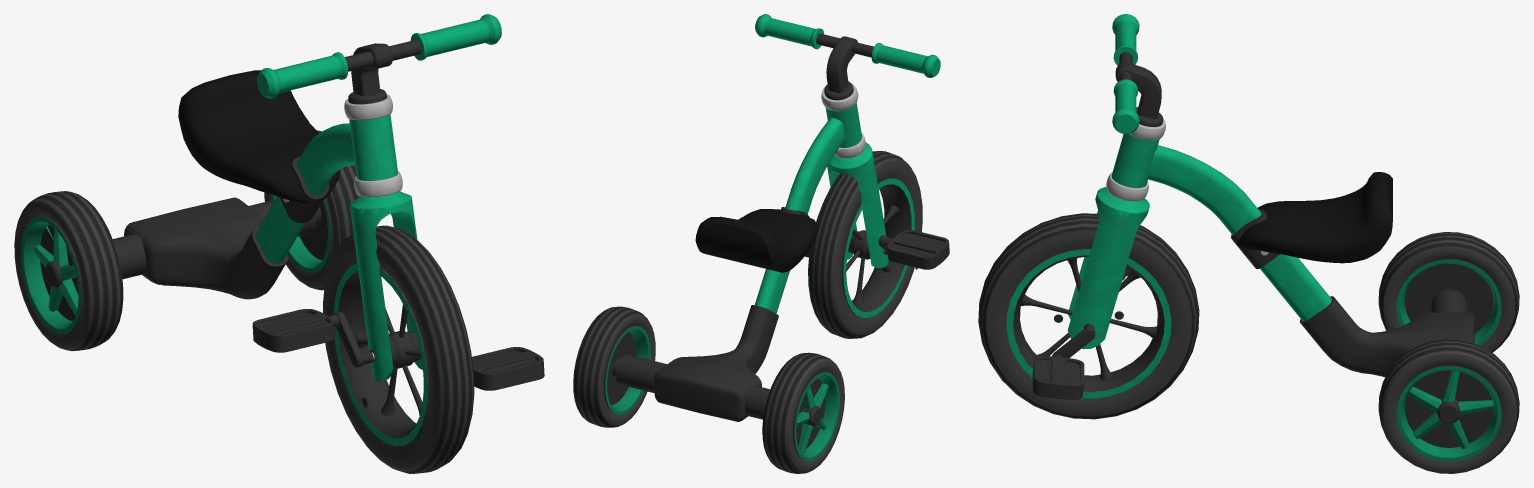
Rendered from xe dap bao.fbx.
3 renders of one model, left to right at view 1: azimuth 30°, elevation 25°; view 2: azimuth 150°, elevation 25°; view 3: azimuth 270°, elevation 25°, orthographic. The views are drawn at different scales.
Parts seen in each view (by area): view 1: Kid_bike_Kid_bike_0, Kid_bike_Kid_bike_0_1, Kid_bike_Kid_bike_0_2; view 2: Kid_bike_Kid_bike_0, Kid_bike_Kid_bike_0_2, Kid_bike_Kid_bike_0_1; view 3: Kid_bike_Kid_bike_0, Kid_bike_Kid_bike_0_2, Kid_bike_Kid_bike_0_1.
Part boxes in pixels (x1,y1,x2,y2): Kid_bike_Kid_bike_0: [46, 14, 501, 413]; Kid_bike_Kid_bike_0_1: [252, 225, 544, 473]; Kid_bike_Kid_bike_0_2: [14, 130, 359, 350]; Kid_bike_Kid_bike_0: [616, 14, 940, 421]; Kid_bike_Kid_bike_0_2: [573, 306, 844, 473]; Kid_bike_Kid_bike_0_1: [804, 151, 949, 338]; Kid_bike_Kid_bike_0: [1021, 14, 1475, 380]; Kid_bike_Kid_bike_0_2: [1378, 232, 1519, 473]; Kid_bike_Kid_bike_0_1: [978, 213, 1199, 419].
Size of the model in its own units: 33.36 by 45.16 by 62.3.
